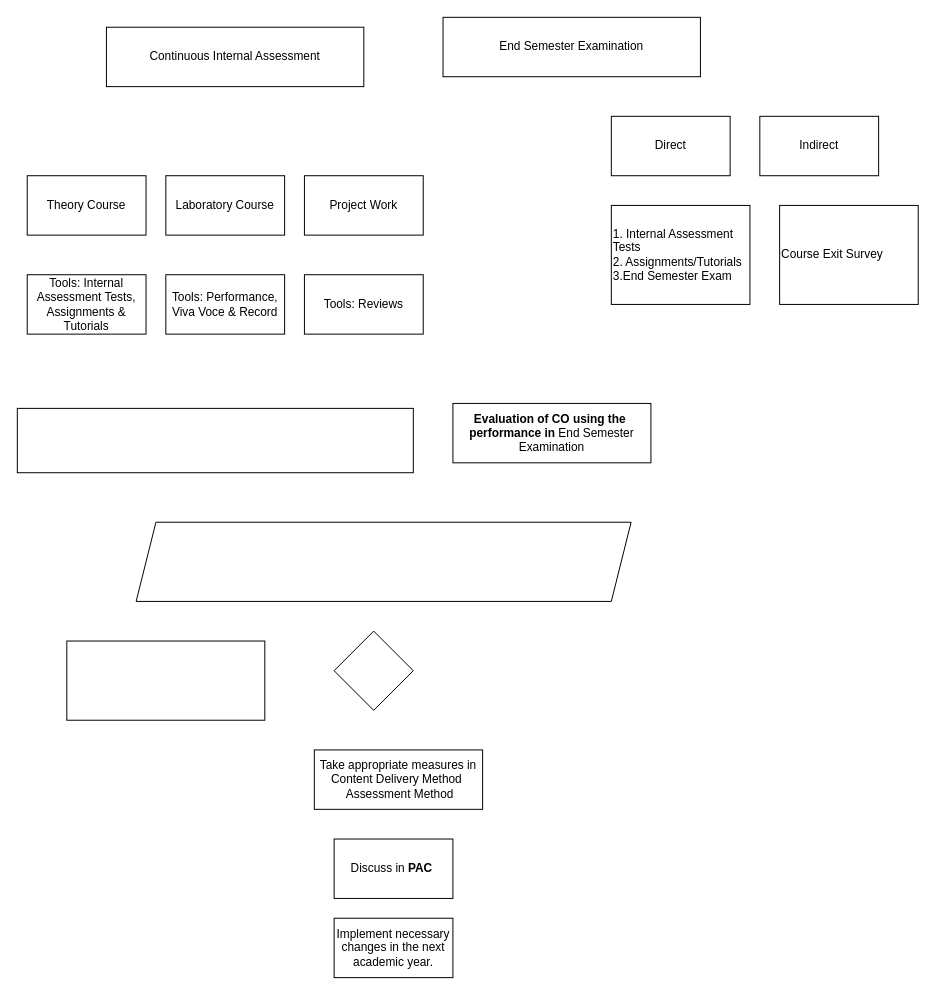
Image size: 936x995. Some labels were removed from this diagram. The centre of each missing label's shape, as x and y in pixels:
Attained?: the point at 373,670
Calculation of Overall CO Attainment (R2017: 0.80 × Direct + 0.20 × Indirect): the point at 383,561
Evaluation of CO using the performance in Continuous Internal Assessment: the point at 214,440
Increase the Competency and Level of attainment for the next academic year: the point at 165,680
